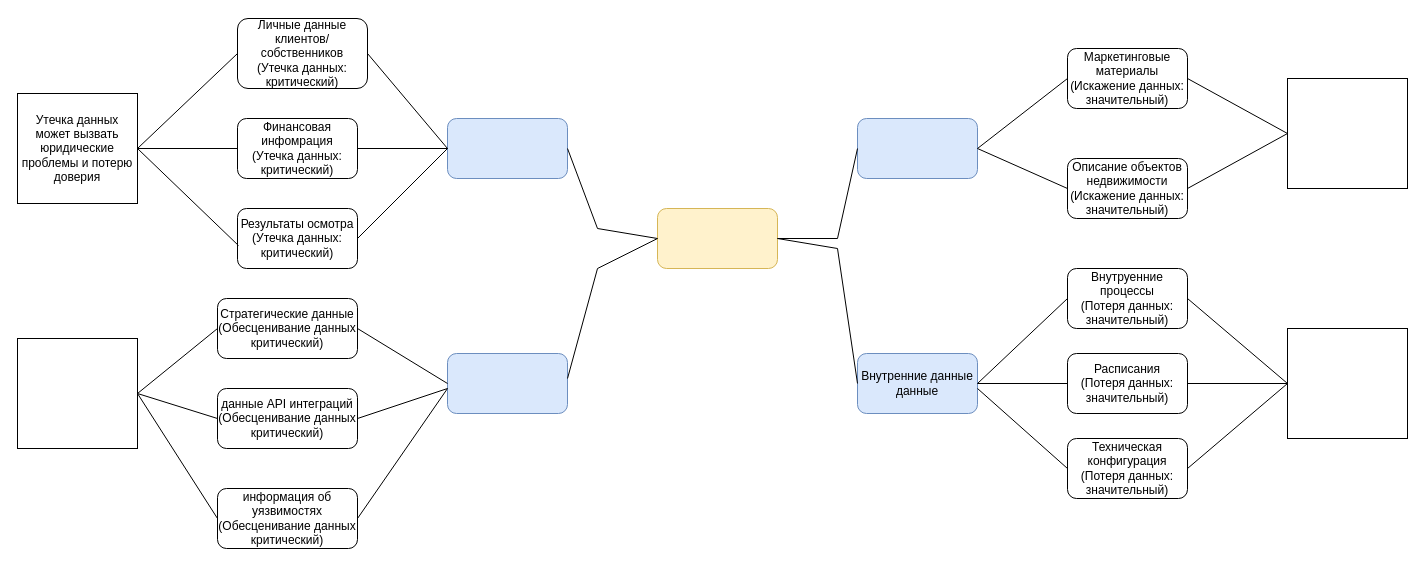
Some shapes in this 1425 by 566 pixel diagram are drawn without their labels. Each missing label, with the centre of its shape:
"Безопасность данных" belongs at point (717, 238).
"Конфидециальные данные" belongs at point (507, 148).
"Некорректное отображение публичной информации вводит клиентов в заблуждение" belongs at point (1347, 133).
"Потеря внутренних данных нарушает операционную деятельность" belongs at point (1347, 383).
"Публичные данные" belongs at point (917, 148).
"Раскрытие стратегических сведений снижает конкурентное преимущество" belongs at point (77, 393).
"Секретные данные" belongs at point (507, 383).
